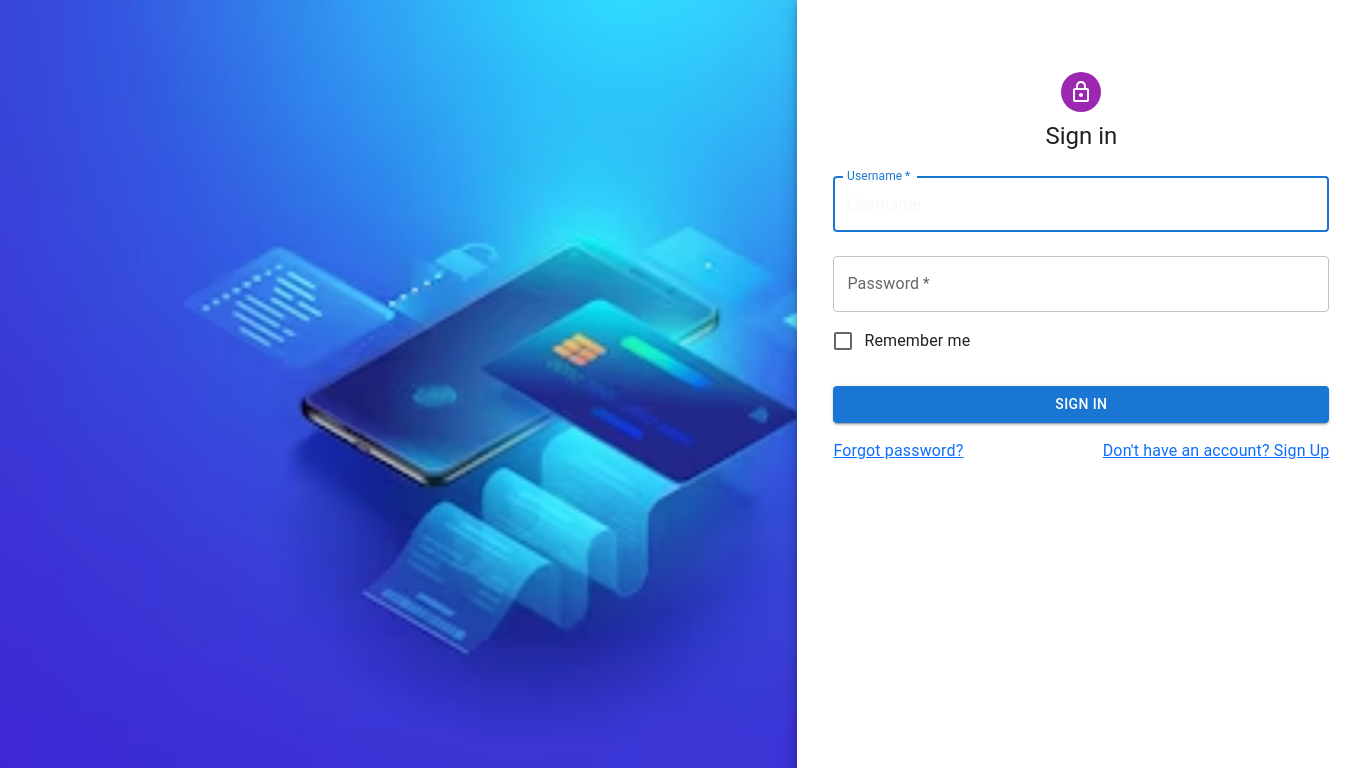
Test: LoginPage component › close snackbar when click on close button
// Fill in the form inputs
Type "testUser" into the field with placeholder "Username" at (1081, 204), box [833, 176, 1329, 232]
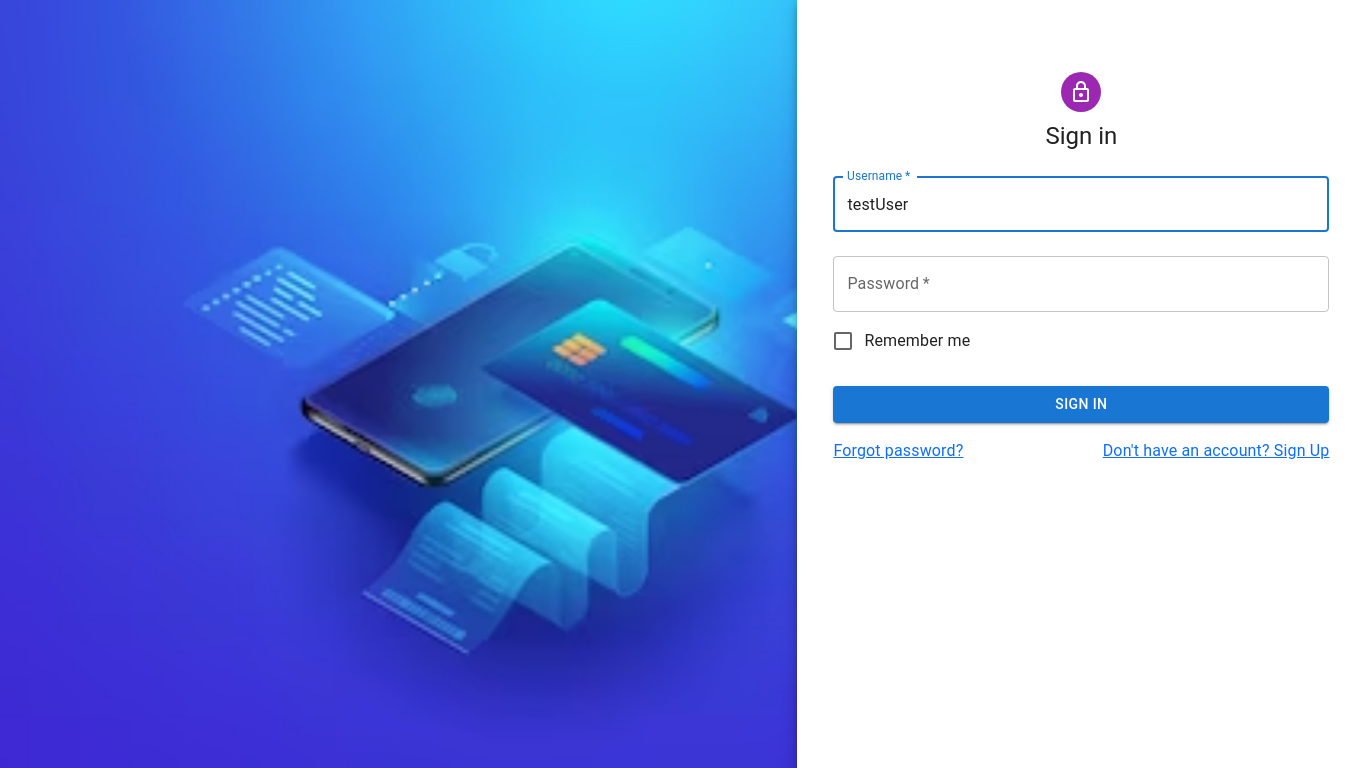
Type "testPassword" into the password field with placeholder "Password" at (1081, 284), box [833, 256, 1329, 312]
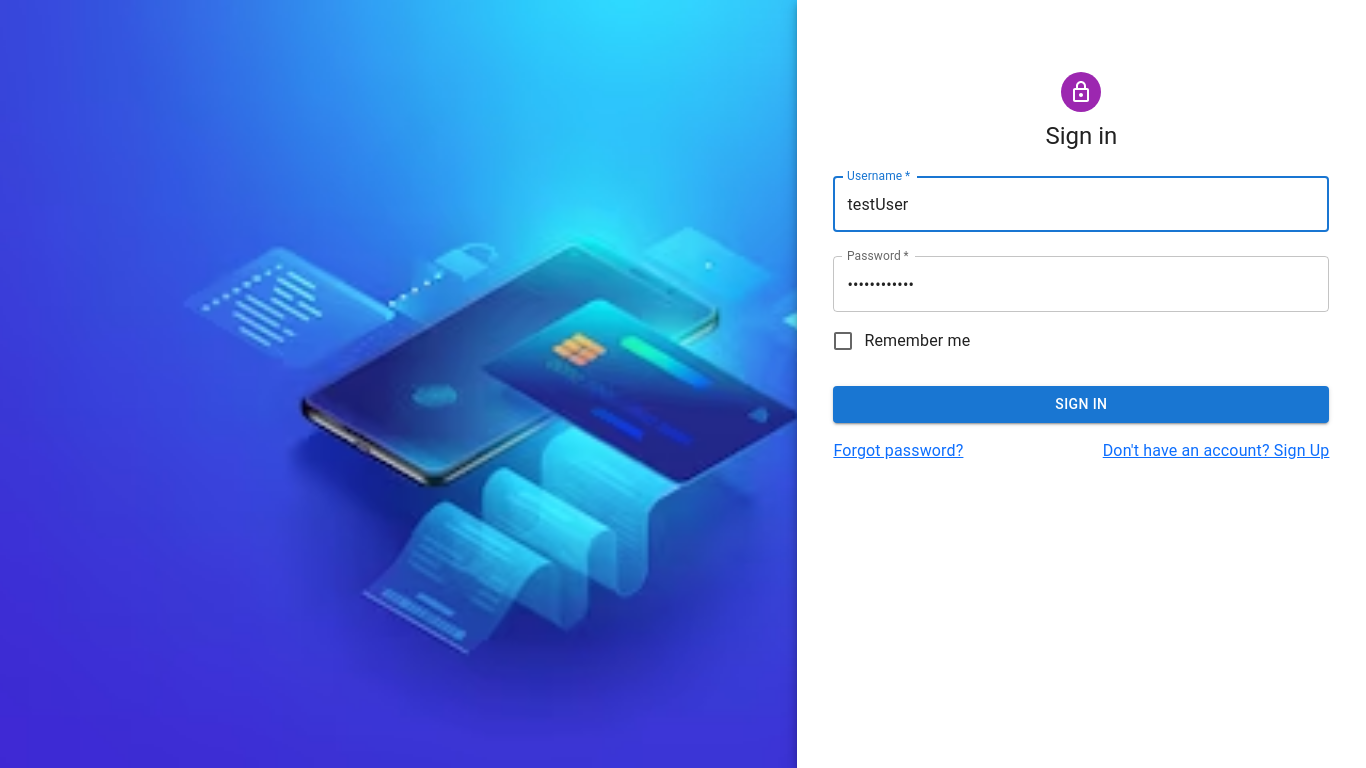
// Click the "Sign In" button
Click the button "Sign In" at (1081, 404), box [833, 386, 1329, 422]
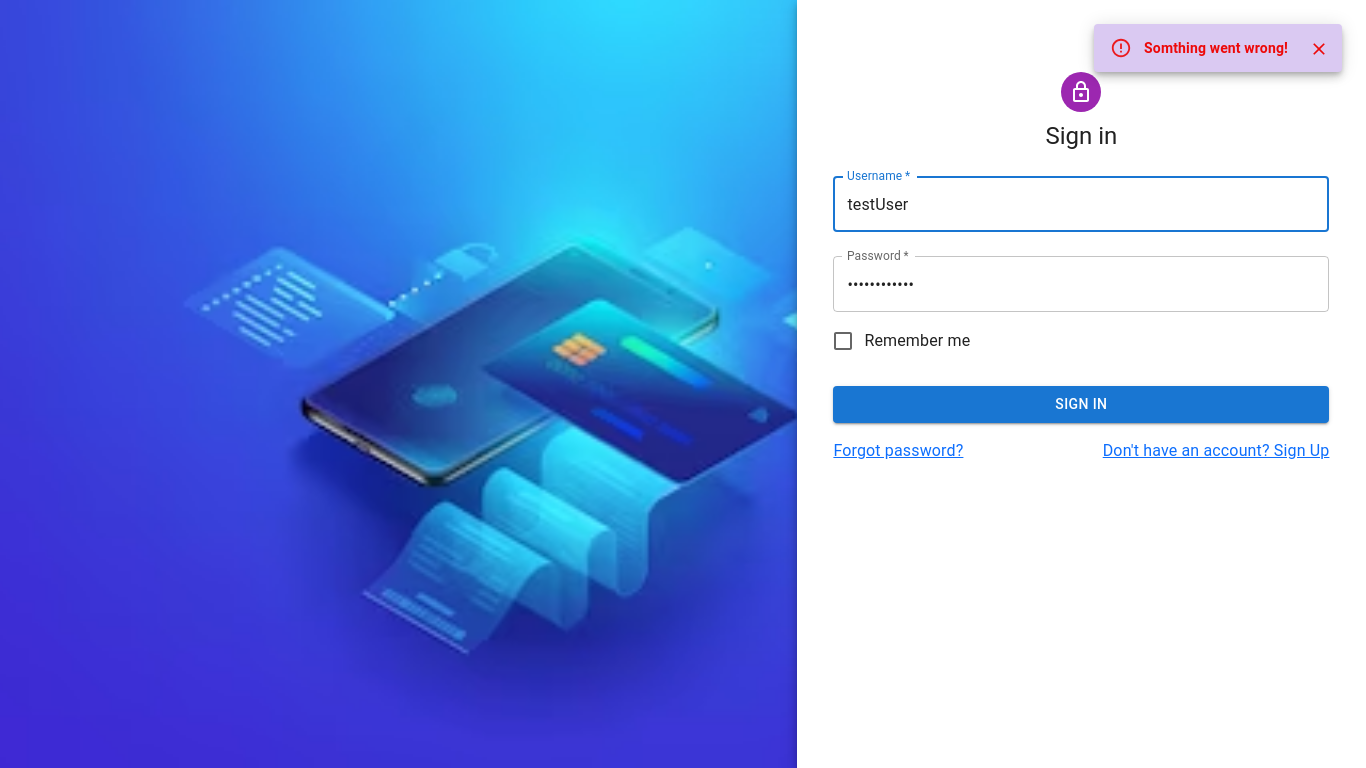
Check: the message "Somthing went wrong!" is shown, box [1094, 24, 1342, 72]
// Find the close button and click it
Click the button named "Close" at (1319, 49), box [1304, 34, 1334, 64]
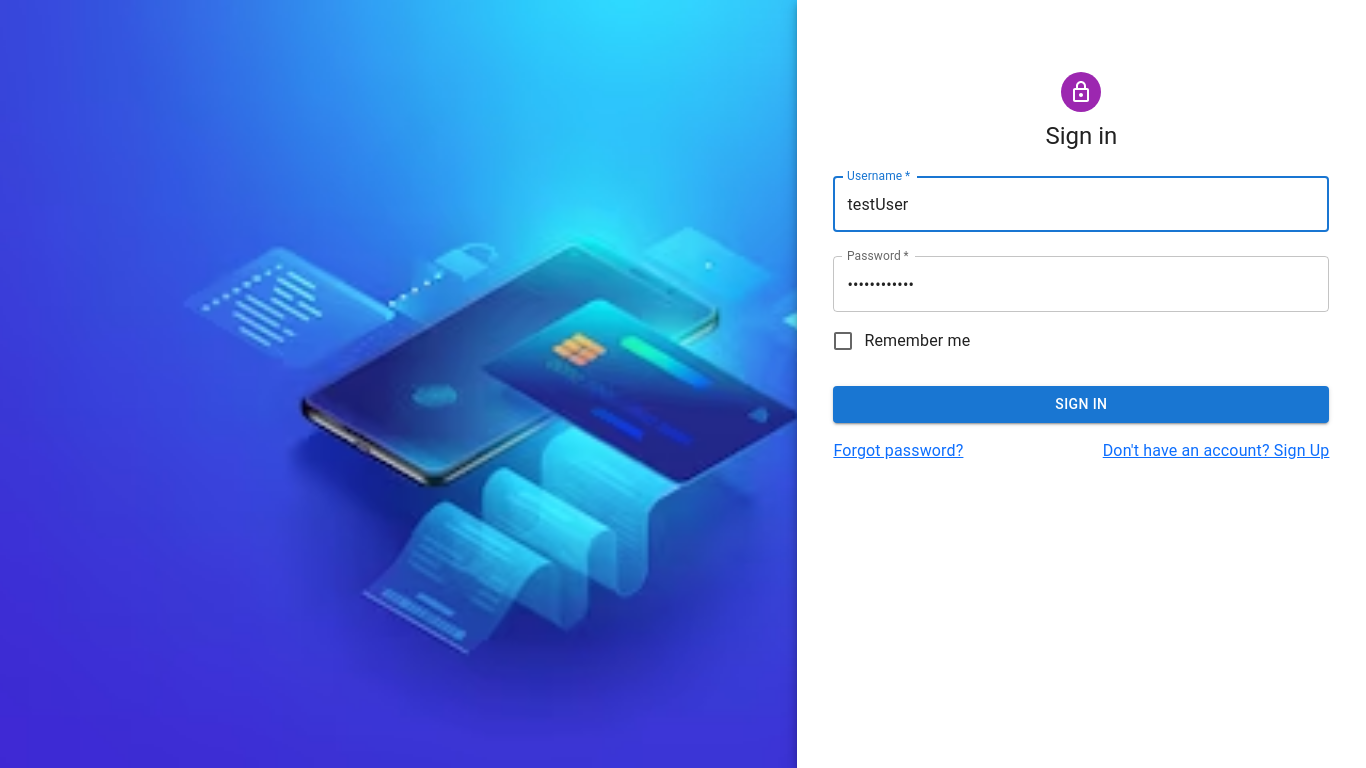
Check: the message "Somthing went wrong!" is gone
